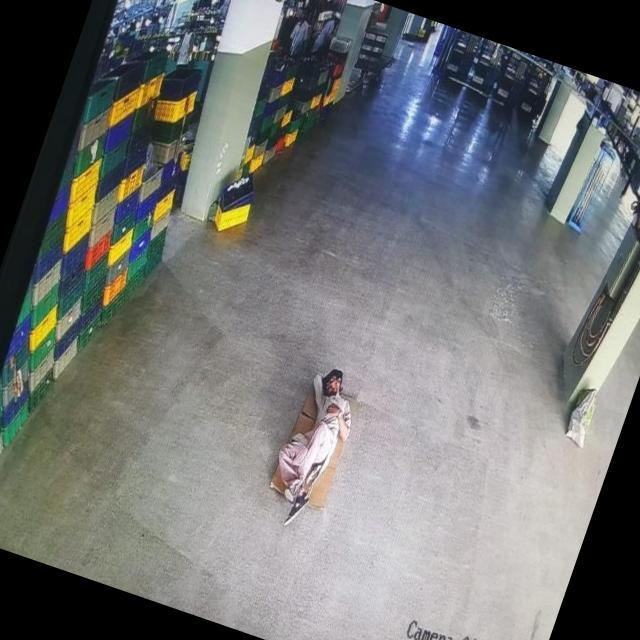person: (258, 356, 368, 536)
